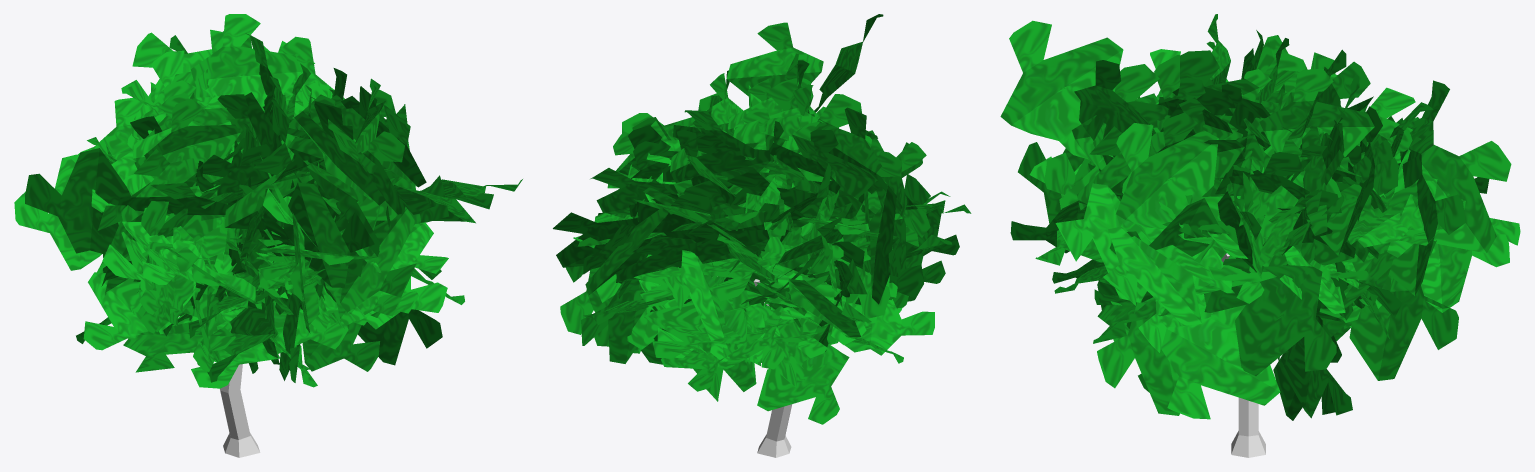
File: tree2.fbx
3 renders of one model, left to right at view 1: azimuth 30°, elevation 25°; view 2: azimuth 150°, elevation 25°; view 3: azimuth 270°, elevation 25°, orthographic. The views are drawn at different scales.
Visible parts, largest first — view 1: Branches, Tree; view 2: Branches, Tree; view 3: Branches, Tree.
Part boxes in pixels (box(x1,y1,x2,y2)): Branches: box(14, 14, 522, 388); Tree: box(220, 364, 260, 457); Branches: box(553, 14, 971, 424); Tree: box(717, 276, 791, 457); Branches: box(1000, 14, 1520, 420); Tree: box(1221, 253, 1265, 457).
Bounding box in the file's own units: 2789 × 2667 × 2983.
